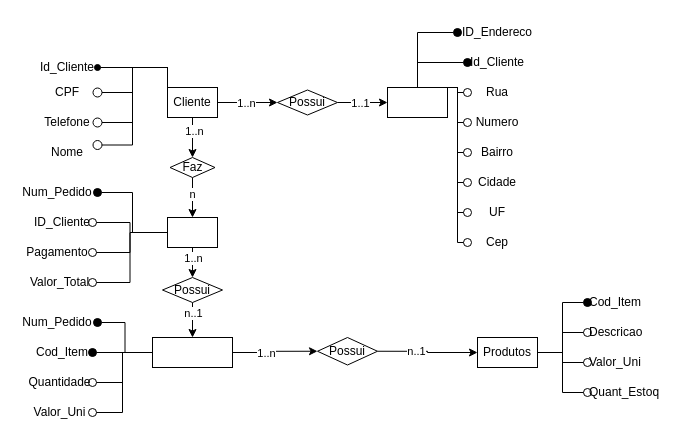
Some shapes in this 684 by 444 pixel diagram are drawn without their labels. Here are the shapes that lost their labels. From the top down, the centre of each, then its label:
At (417,102): "Endereco".
At (192,232): "Pedido".
At (192,352): "Item_Pedido".
